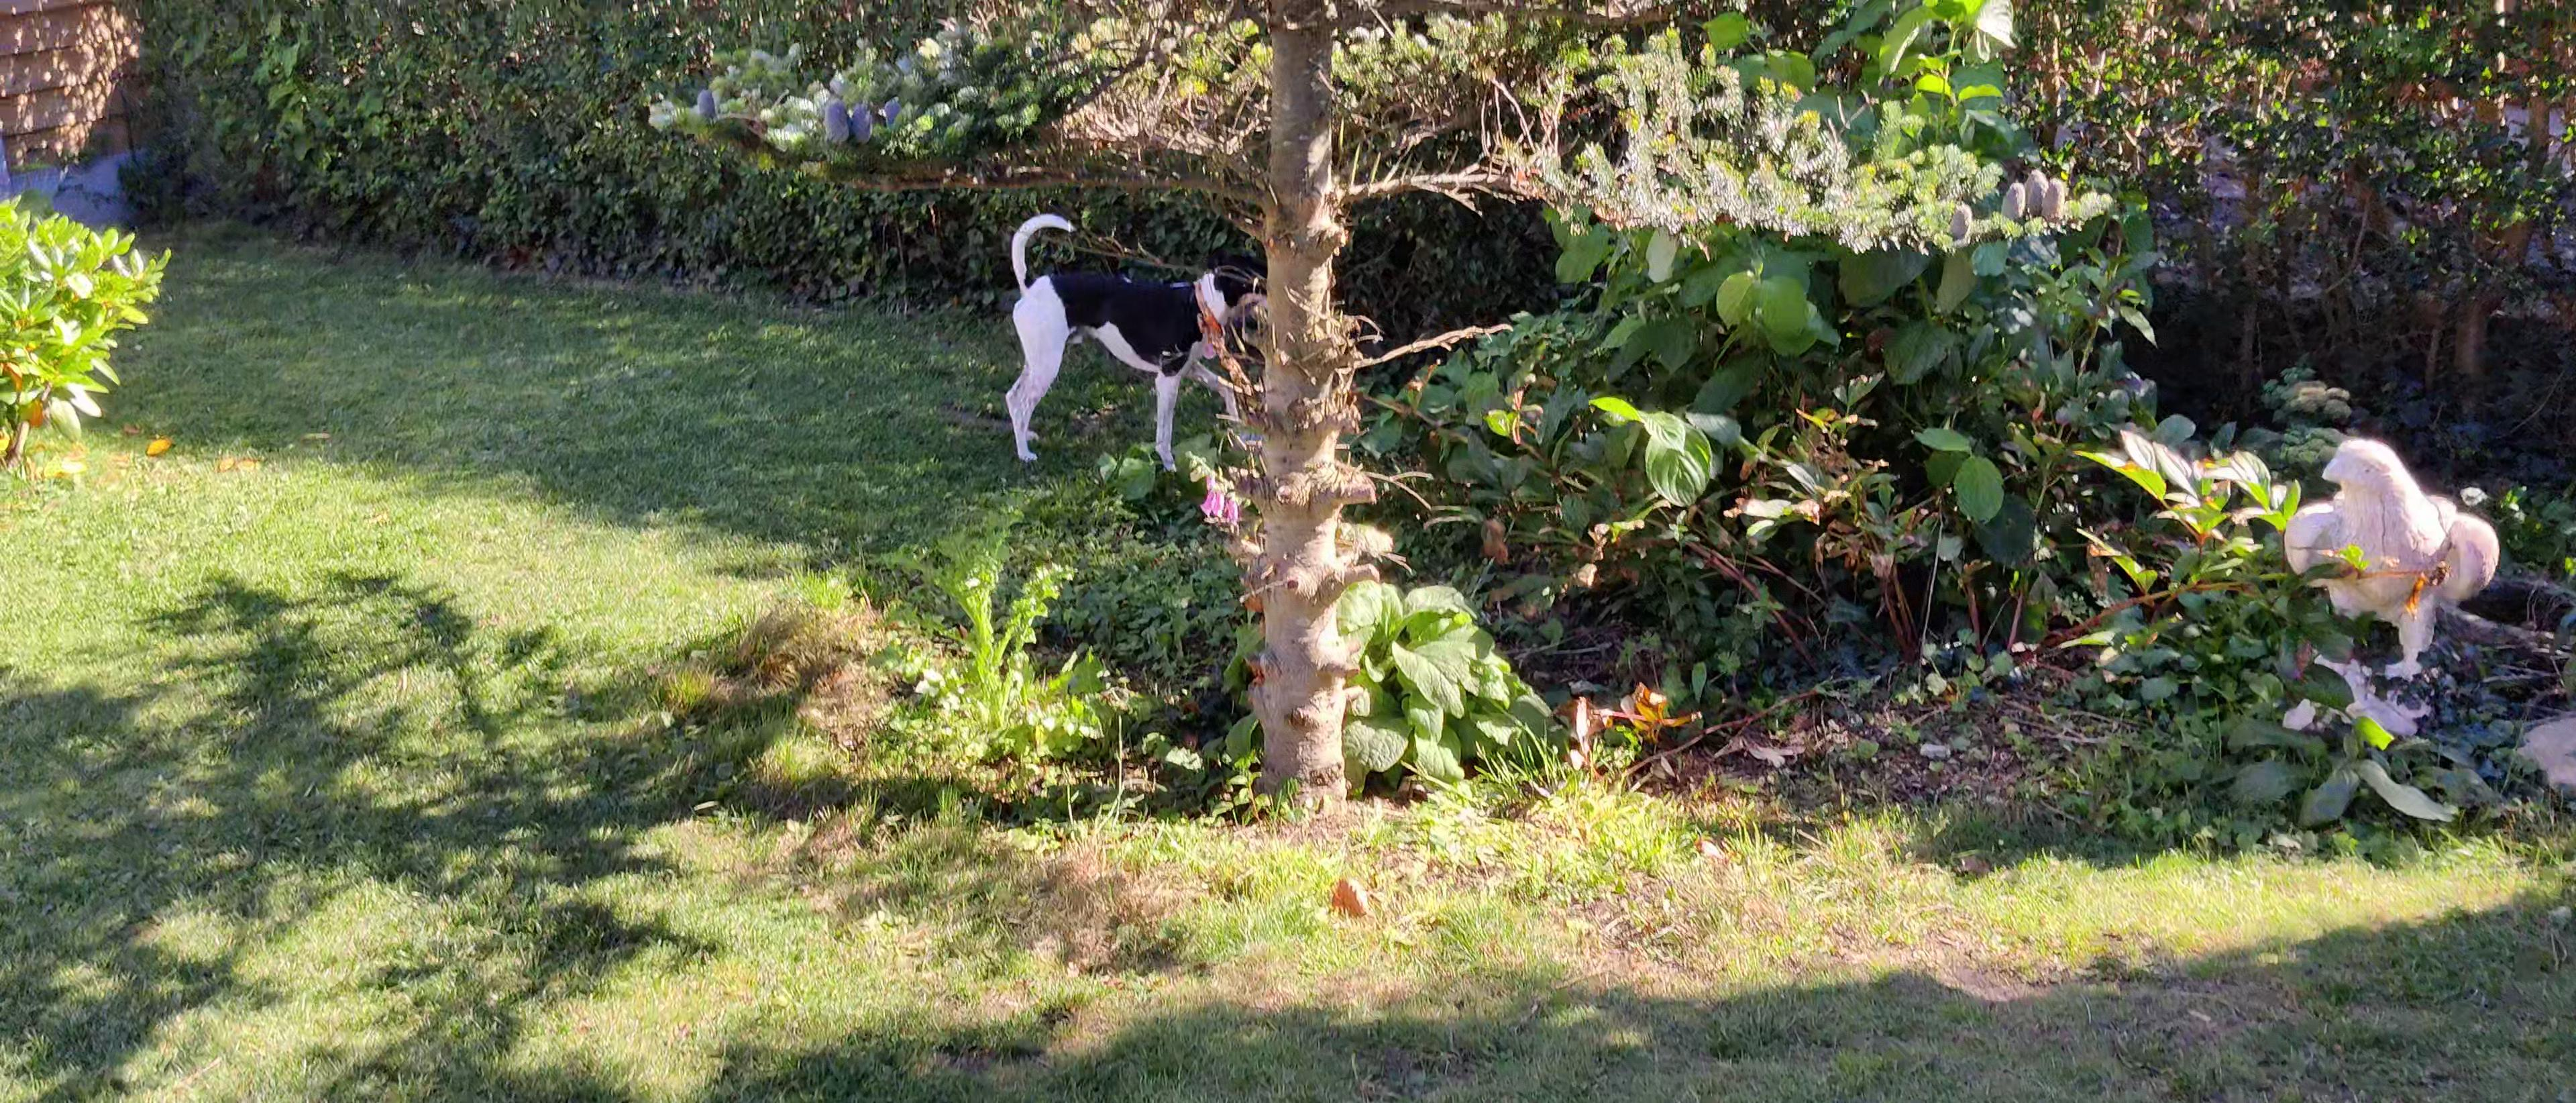Dog: (997, 207, 1273, 470)
